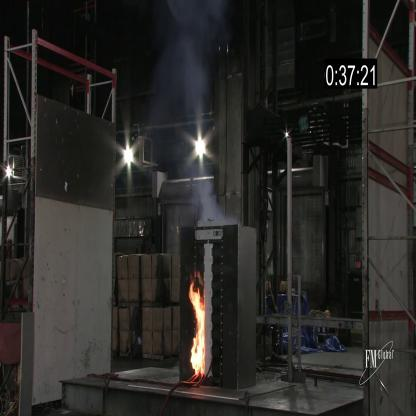fire: (184, 275, 212, 379)
smoke: (196, 175, 234, 224)
